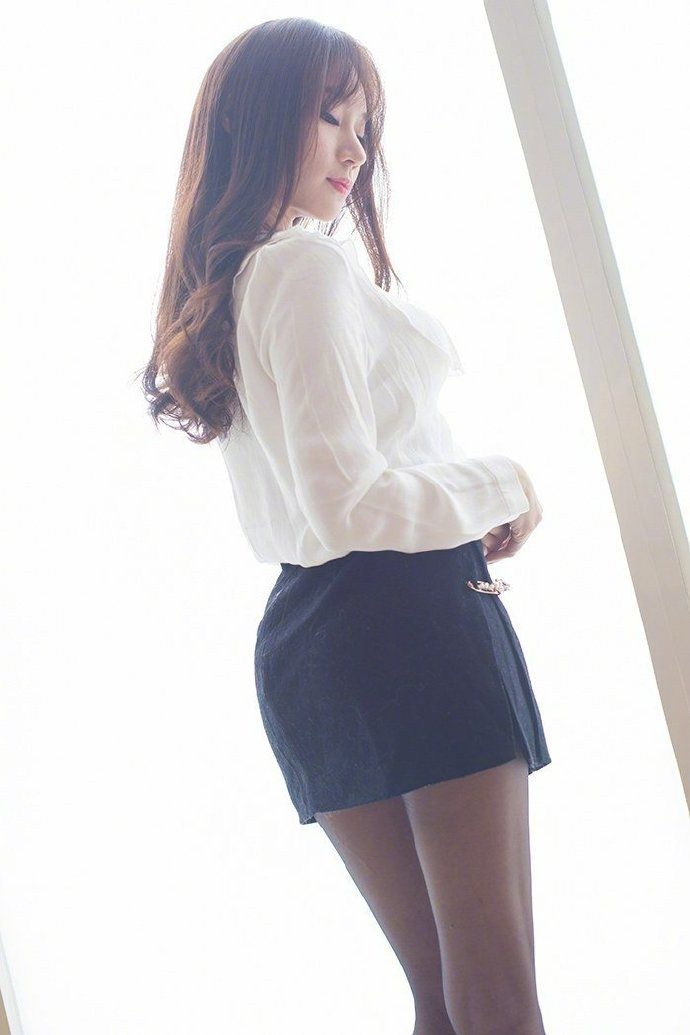person: (59, 28, 622, 914)
